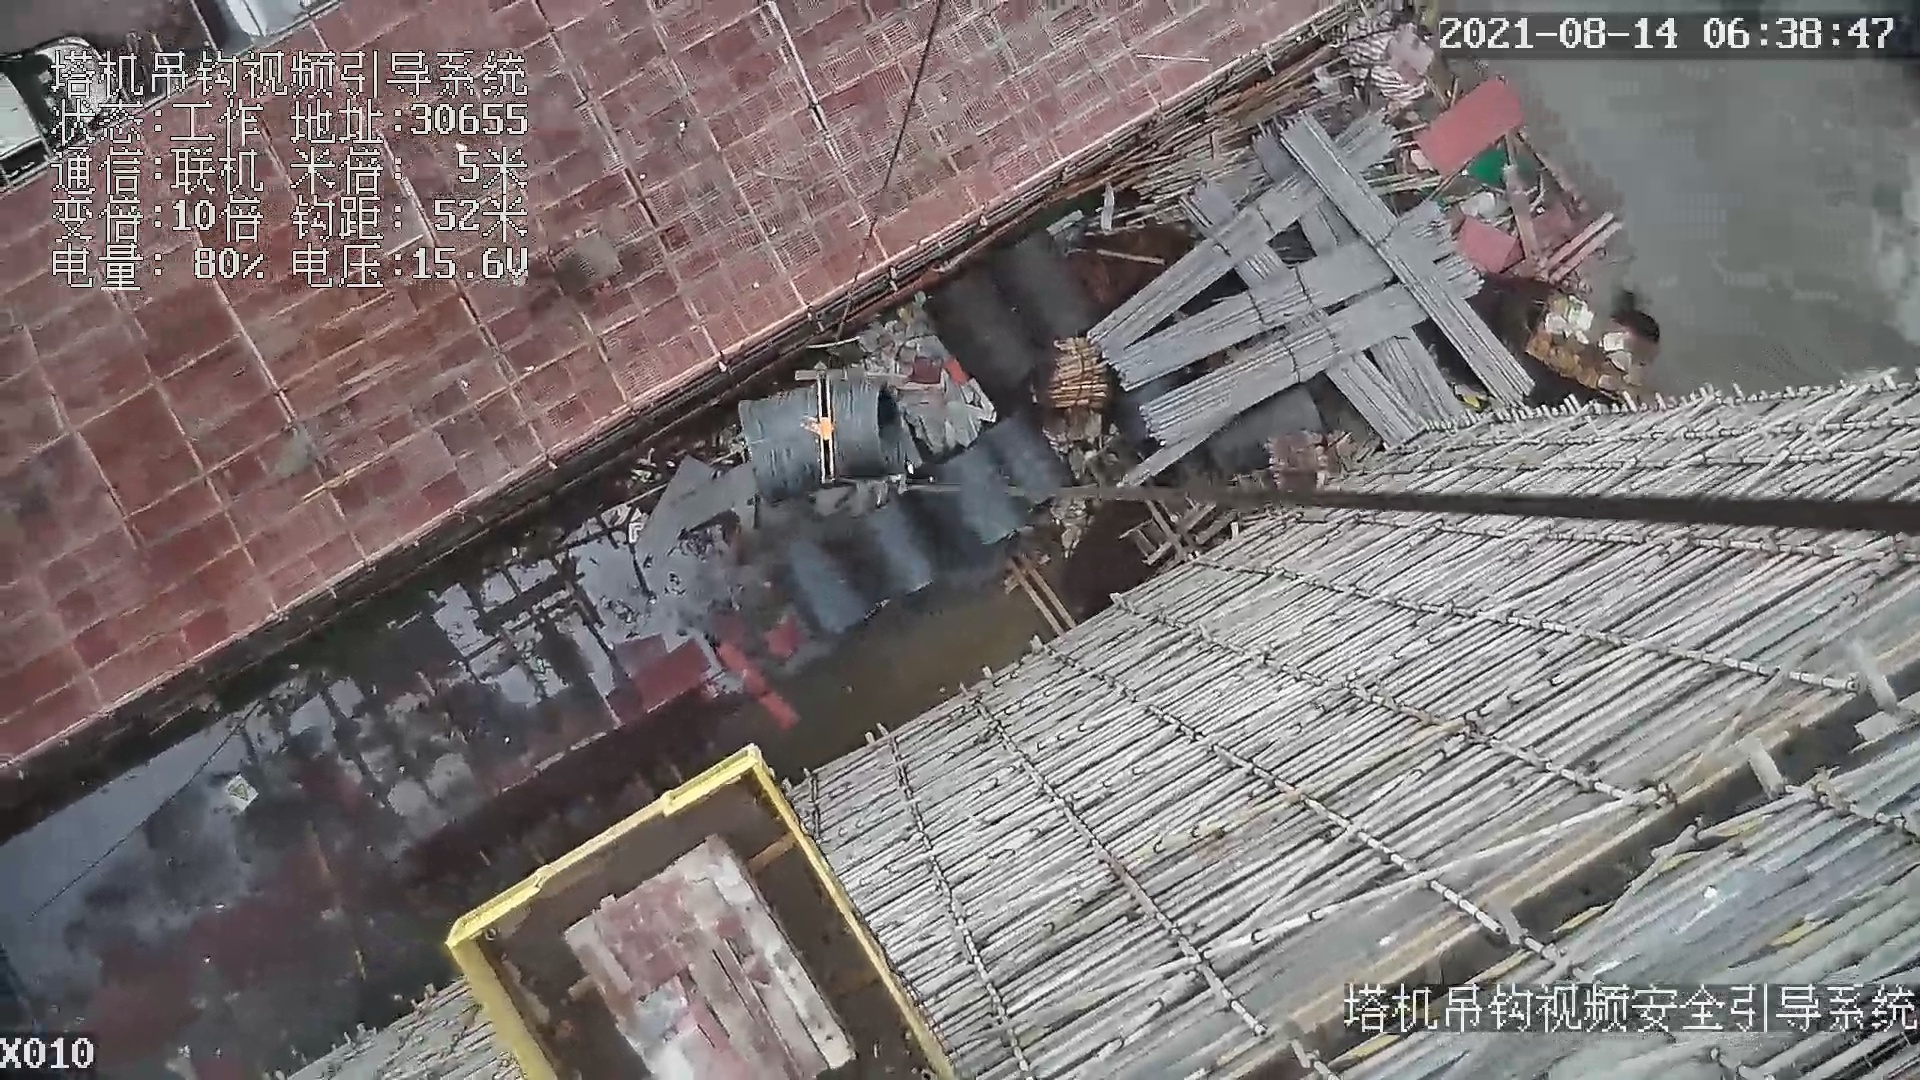hook: (795, 377, 847, 487)
